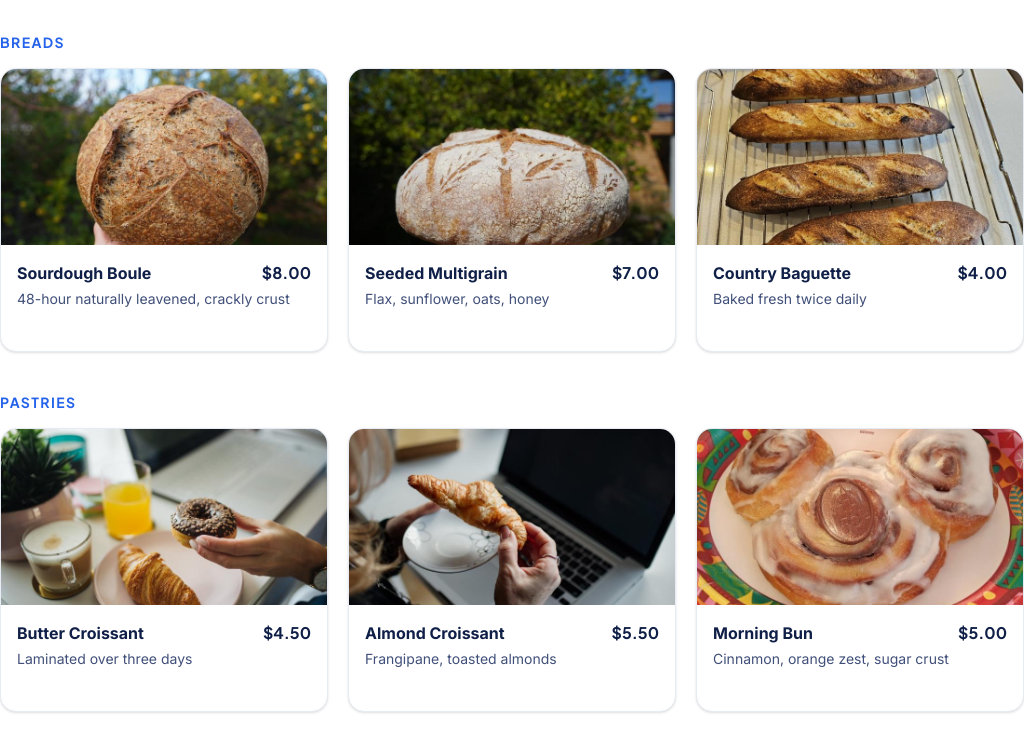
Test: Menu › opens a detail dialog with an order button
This screenshot has width=1024, height=754.
Click the button "Almond Croissant $5.50 Frangipane, toasted almonds".
click(512, 570)  # box [348,428,676,712]
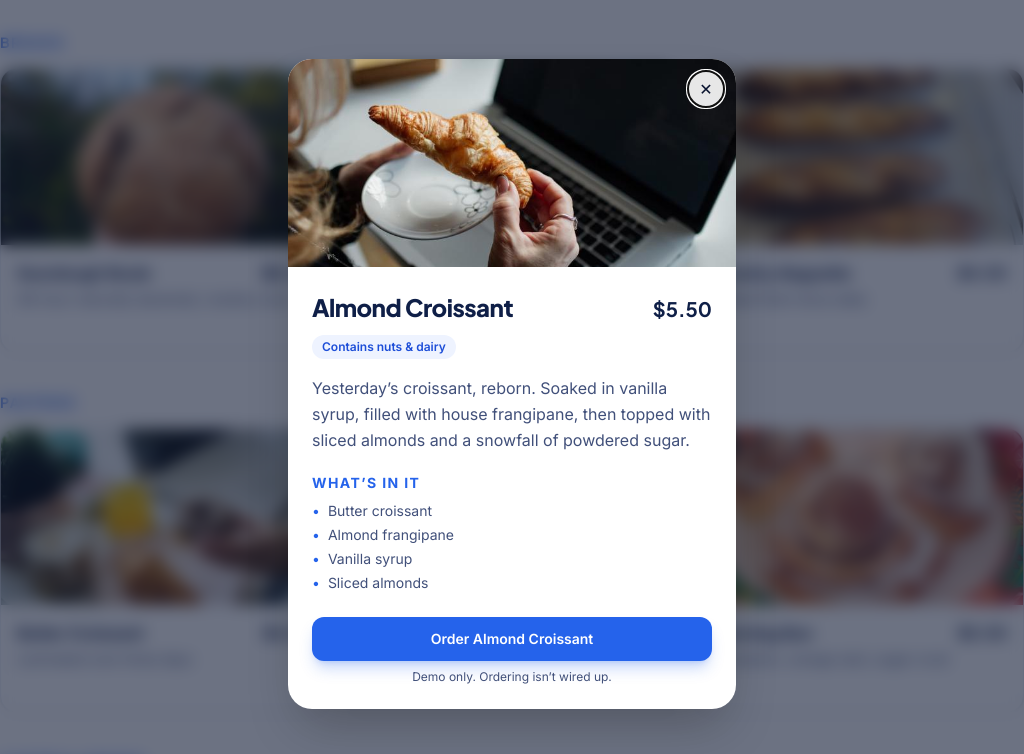
Expected: the text "Soaked in vanilla syrup" is shown, [312,378,710,450]
Expected: the button "Order Almond Croissant" is shown, [312,617,712,661]
